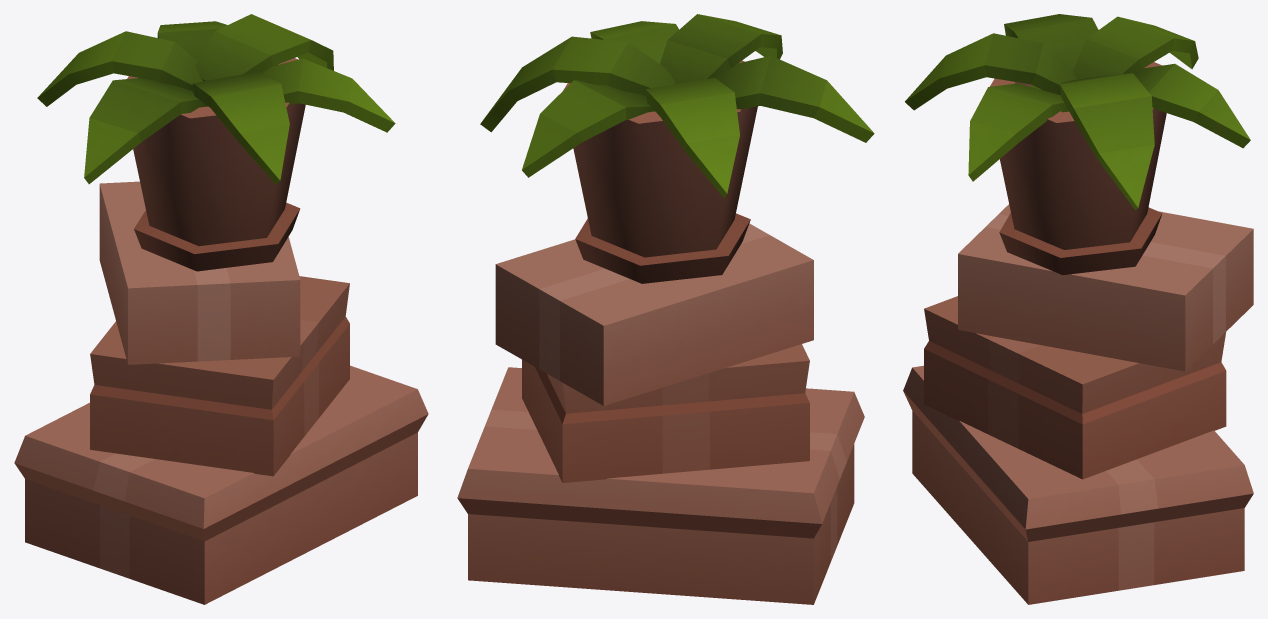
File: Boxes.fbx
3 views of the same model, side by side, from view 1: azimuth 30°, elevation 25°; view 2: azimuth 150°, elevation 25°; view 3: azimuth 270°, elevation 25° (orthographic). The views are drawn at different scales.
Visible parts, largest first — view 1: Boxes; view 2: Boxes; view 3: Boxes.
Part boxes in pixels (x1=…): Boxes: x1=14, y1=14, x2=428, y2=604; Boxes: x1=457, y1=14, x2=874, y2=604; Boxes: x1=903, y1=14, x2=1253, y2=604.
Size of the model in its own units: 104 by 129 by 88.48.
